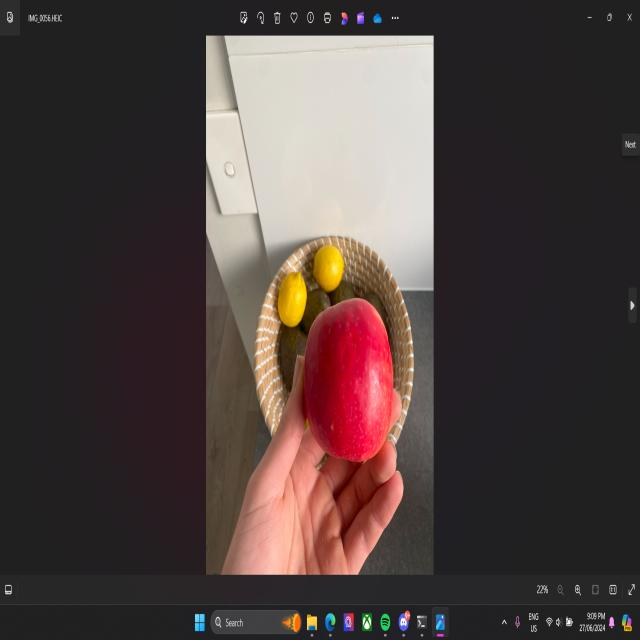Apple: (304, 298, 392, 462)
